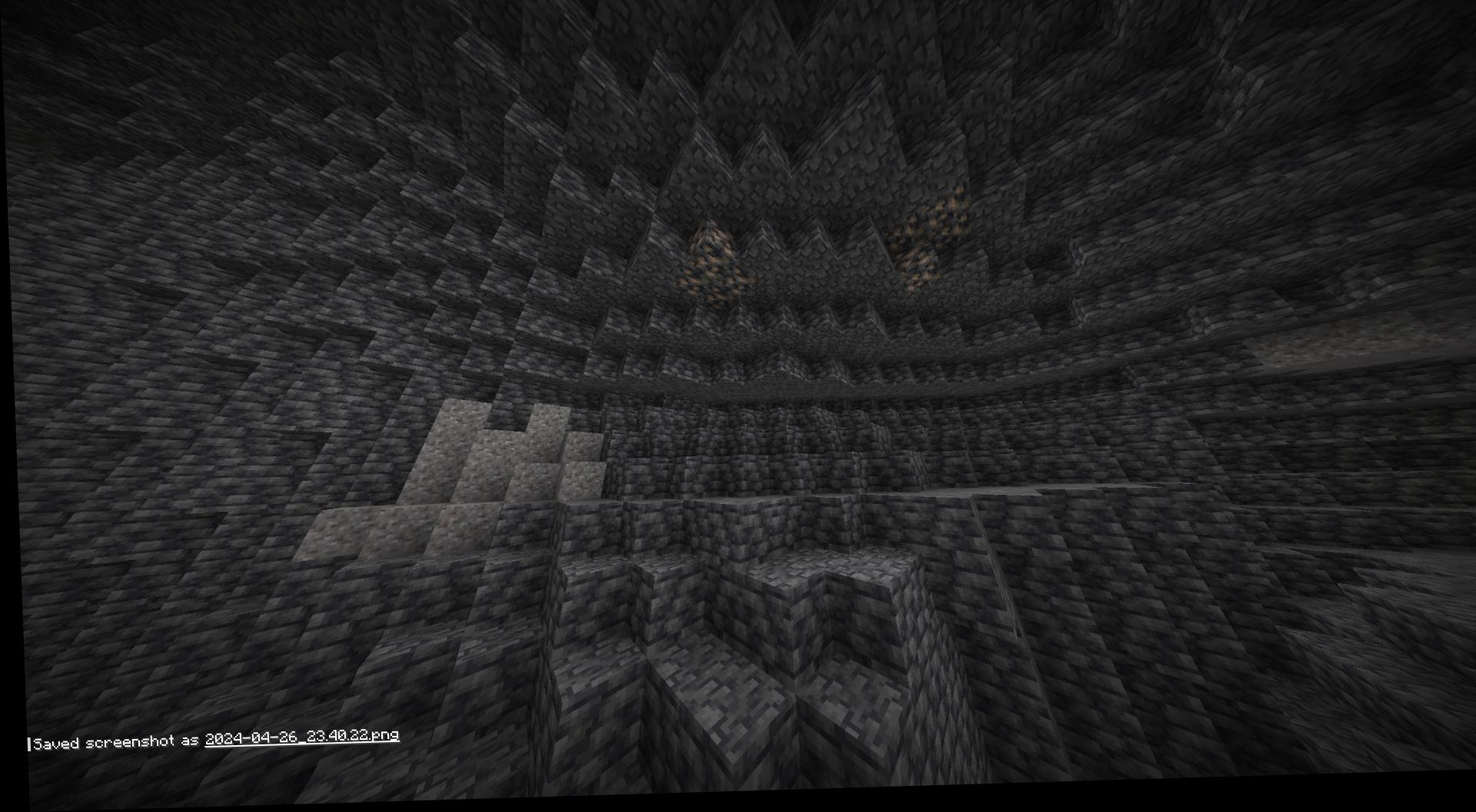iron ore: (687, 225, 733, 279), (895, 249, 943, 294), (884, 218, 926, 258), (927, 192, 966, 230), (707, 273, 756, 302), (931, 222, 970, 258), (667, 274, 707, 303), (699, 289, 729, 316)
